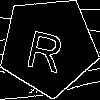R: (23, 21, 68, 73)
